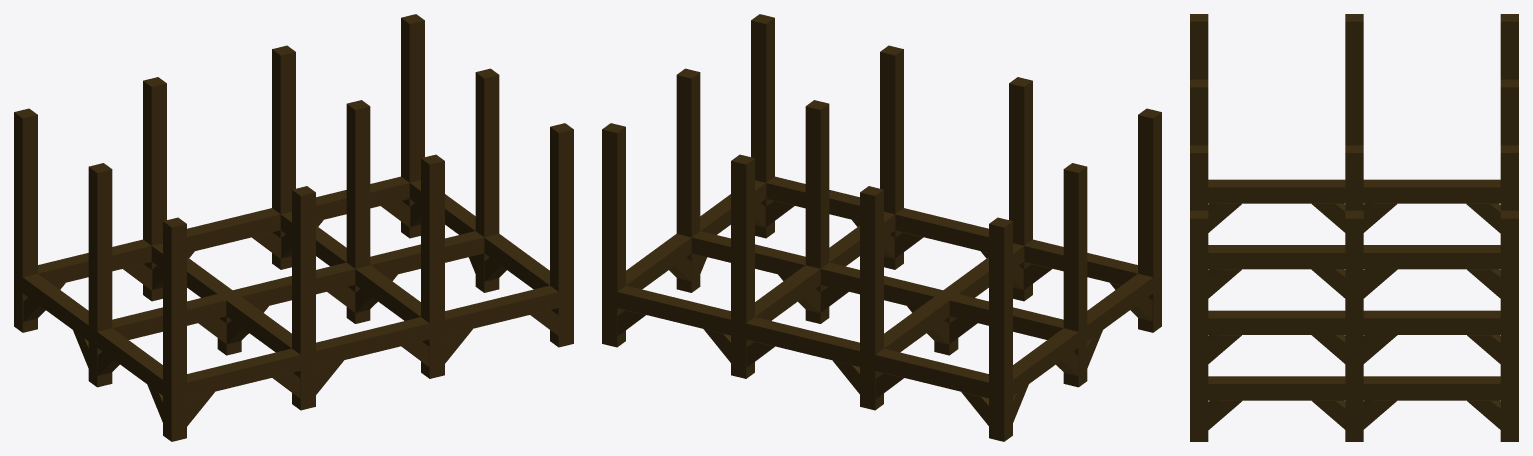
File: temelj 2x3.FBX
3 renders of one model, left to right at view 1: azimuth 30°, elevation 25°; view 2: azimuth 150°, elevation 25°; view 3: azimuth 270°, elevation 25°, orthographic. The views are drawn at different scales.
Parts seen in each view (by area): view 1: temeljna_ugaona_Greda033; view 2: temeljna_ugaona_Greda033; view 3: temeljna_ugaona_Greda033.
Part boxes in pixels (x1,y1,x2,y2): temeljna_ugaona_Greda033: (14, 14, 573, 441); temeljna_ugaona_Greda033: (602, 14, 1161, 441); temeljna_ugaona_Greda033: (1190, 14, 1518, 441).
Bounding box in the file's own units: 530 × 270 × 360.
